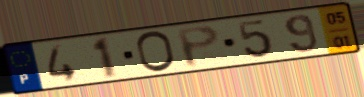1: (92, 35, 122, 81)
4: (46, 43, 80, 82)
5: (236, 18, 276, 61)
9: (282, 13, 320, 55)
O: (134, 30, 178, 74)
P: (174, 24, 223, 70)
